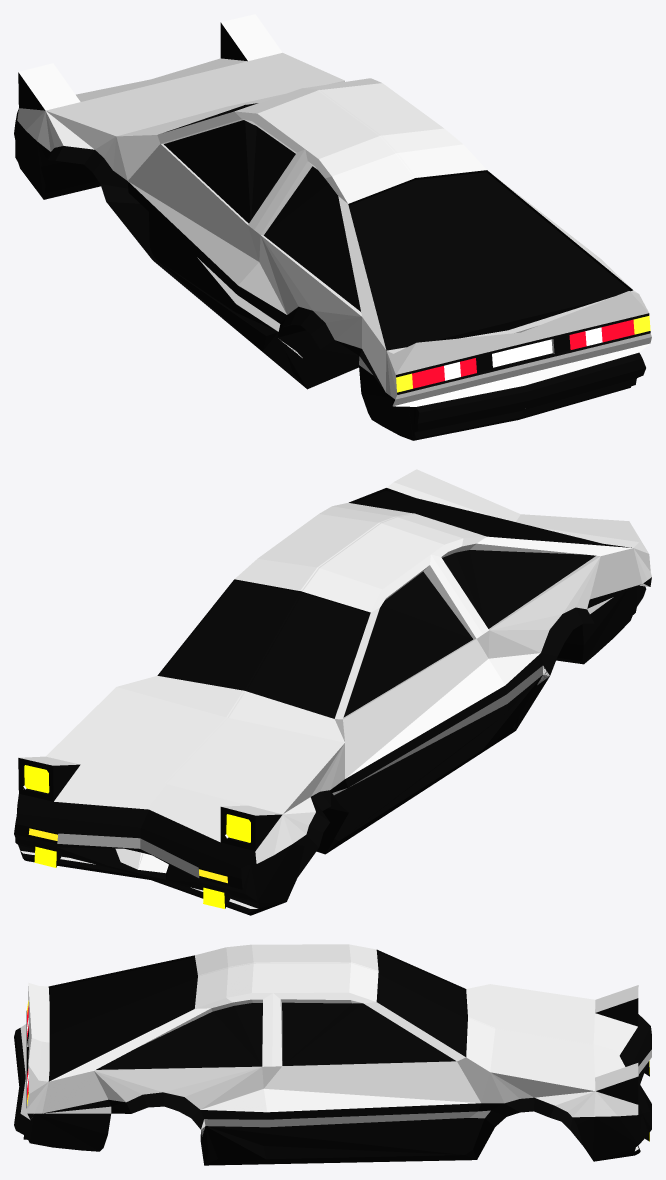
The model's file is smashed.glb.
3 views of the same model, one above another, from view 1: azimuth 30°, elevation 25°; view 2: azimuth 150°, elevation 25°; view 3: azimuth 270°, elevation 25° (orthographic). The views are drawn at different scales.
Parts seen in each view (by area): view 1: Car; view 2: Car; view 3: Car.
Boxes of the visible parts, x1=… form: Car: x1=14, y1=14, x2=651, y2=440; Car: x1=14, y1=469, x2=651, y2=915; Car: x1=14, y1=944, x2=651, y2=1165.
Bounding box in the file's own units: 2.65 × 1.89 × 6.67.
